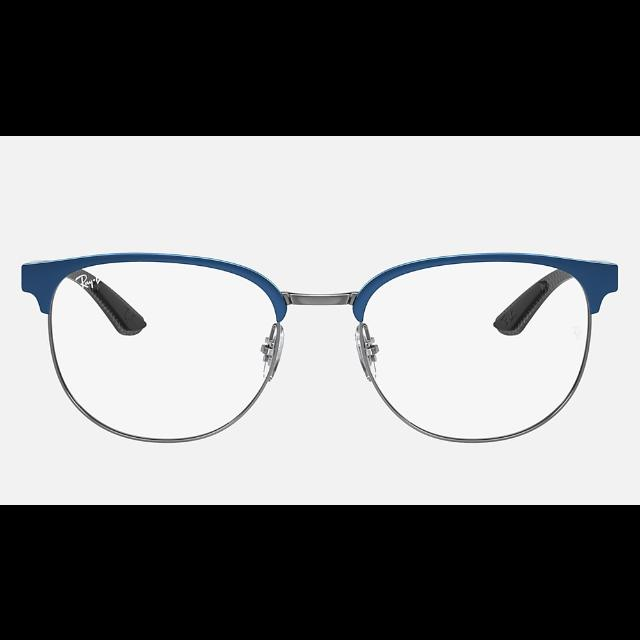glasses: (22, 251, 618, 443)
